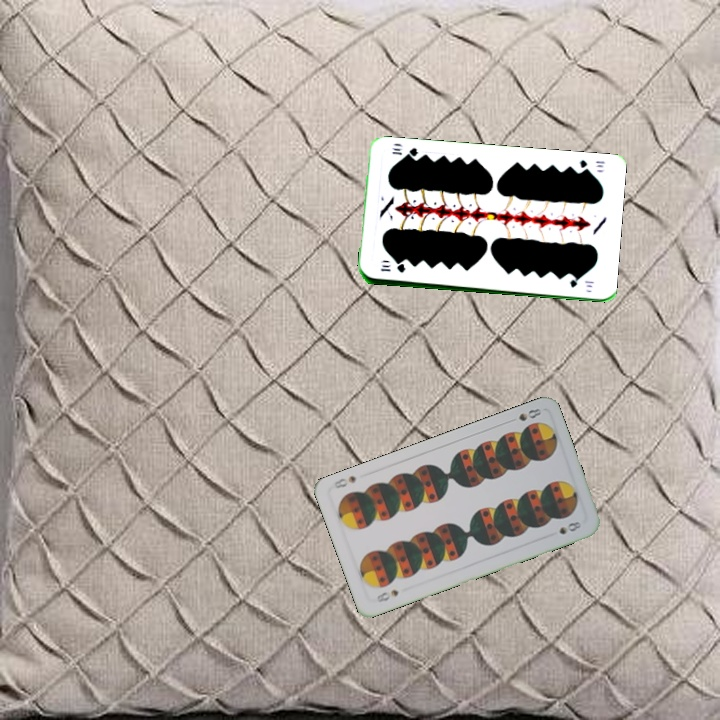G10: (575, 156, 607, 175), (377, 261, 408, 275)
S8: (504, 404, 544, 425), (373, 585, 401, 605)
